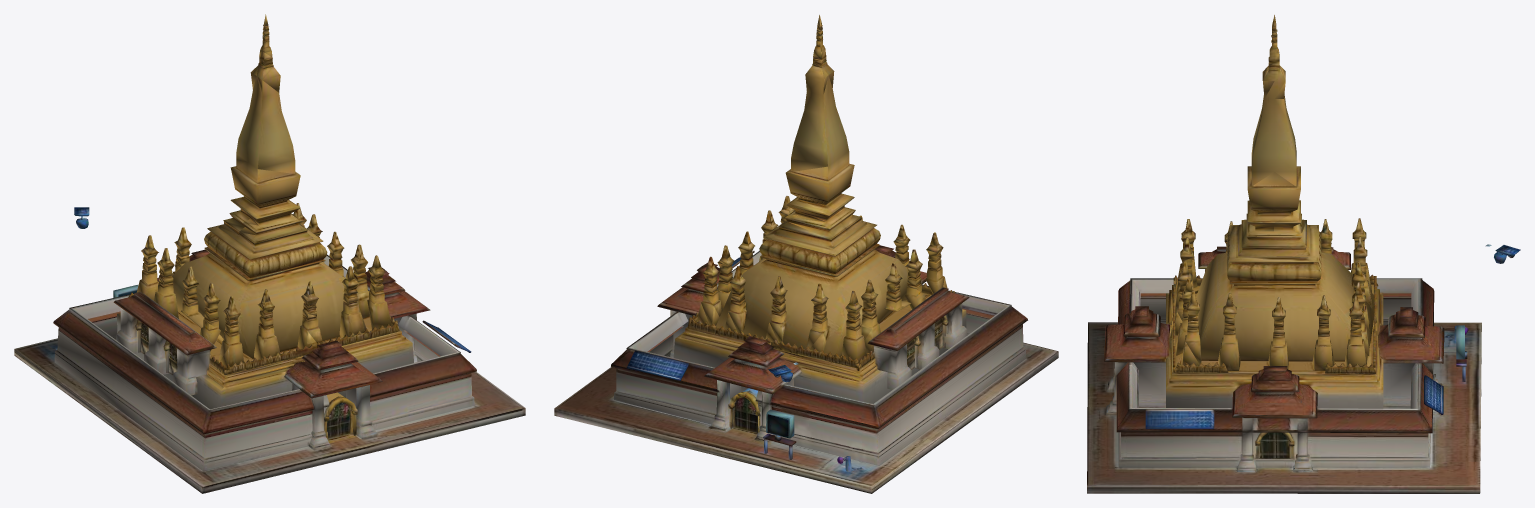
File: lm_that_luang.glb
3 renders of one model, left to right at view 1: azimuth 30°, elevation 25°; view 2: azimuth 150°, elevation 25°; view 3: azimuth 270°, elevation 25°, orthographic. The views are drawn at different scales.
Visible parts, largest first — view 1: Body, Trim; view 2: Body, Trim; view 3: Body, Trim.
Part boxes in pixels (bbox=[...]): Body: bbox=[14, 14, 525, 493]; Trim: bbox=[131, 15, 401, 435]; Body: bbox=[554, 15, 1058, 493]; Trim: bbox=[682, 25, 950, 426]; Body: bbox=[1087, 15, 1520, 493]; Trim: bbox=[1164, 19, 1379, 381].
Bounding box in the file's own units: 26.95 × 30 × 30.
Materials: 2 (2 with a texture image).
